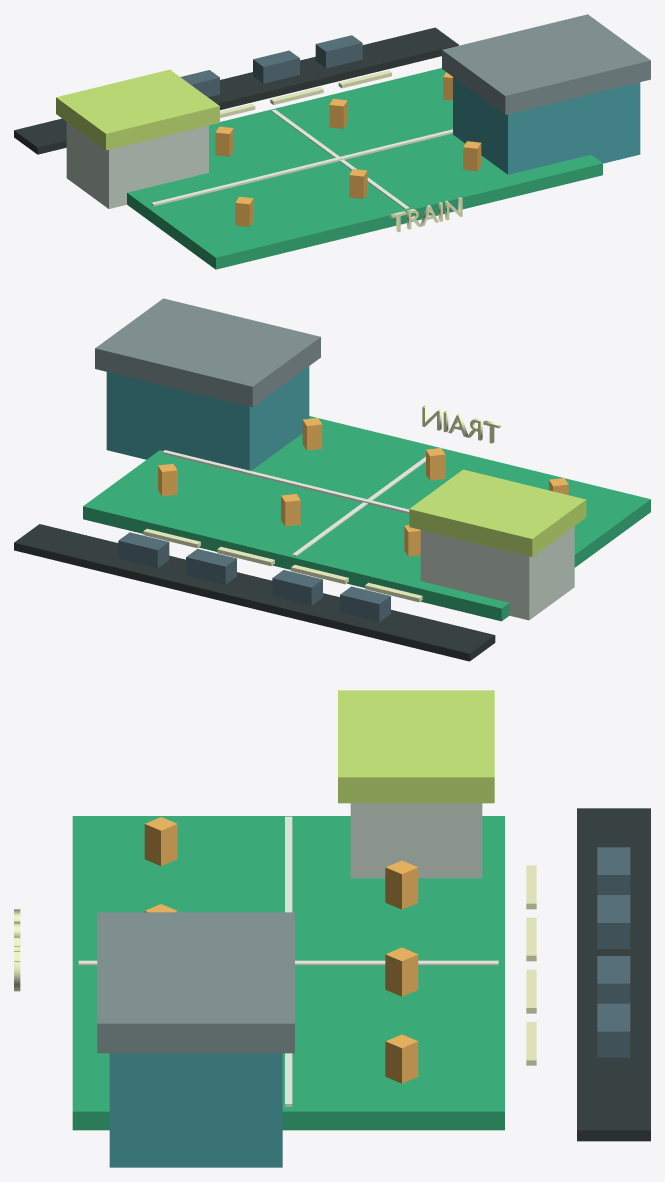
The model's file is training-base-lowpoly.glb.
3 renders of one model, top to bottom at view 1: azimuth 30°, elevation 25°; view 2: azimuth 150°, elevation 25°; view 3: azimuth 270°, elevation 25°, orthographic. The views are drawn at different scales.
Visible parts, largest first — view 1: training_main_pitch, training_gym_roof, training_gym_base, training_recovery_roof, training_recovery_center, training_parking_strip, training_pitch_line_y, training_car_3, training_car_2, training_sign, training_pitch_line_x, training_car_1 (+7 smaller); view 2: training_main_pitch, training_gym_roof, training_gym_base, training_parking_strip, training_recovery_roof, training_recovery_center, training_car_3, training_car_0, training_car_2, training_car_1, training_pitch_line_y, training_sign (+5 smaller); view 3: training_main_pitch, training_gym_roof, training_gym_base, training_parking_strip, training_recovery_roof, training_recovery_center, training_car_3, training_car_1, training_car_0, training_car_2, training_cone_3, training_cone_5 (+4 smaller).
Part boxes in pixels (x1,y1,x2,y2): training_main_pitch: (127, 68, 602, 269); training_gym_roof: (442, 14, 650, 114); training_gym_base: (453, 77, 640, 174); training_recovery_roof: (56, 69, 219, 150); training_recovery_center: (66, 122, 208, 208); training_parking_strip: (14, 27, 458, 154); training_pitch_line_y: (151, 129, 452, 206); training_car_3: (315, 35, 362, 68); training_car_2: (253, 50, 299, 83); training_sign: (390, 197, 462, 232); training_pitch_line_x: (271, 109, 409, 209); training_car_1: (180, 70, 219, 96); training_main_pitch: (83, 416, 650, 621); training_gym_roof: (95, 298, 320, 407); training_gym_base: (106, 366, 309, 470); training_parking_strip: (14, 524, 495, 661); training_recovery_roof: (409, 469, 586, 556); training_recovery_center: (420, 526, 574, 620); training_car_3: (118, 532, 169, 568); training_car_0: (340, 586, 390, 622); training_car_2: (186, 549, 236, 584); training_car_1: (272, 570, 322, 605); training_pitch_line_y: (162, 450, 409, 513); training_sign: (422, 405, 500, 443); training_main_pitch: (72, 816, 504, 1130); training_gym_roof: (97, 912, 294, 1053); training_gym_base: (109, 1053, 282, 1167); training_parking_strip: (577, 808, 650, 1141); training_recovery_roof: (338, 690, 494, 803); training_recovery_center: (350, 803, 482, 878); training_car_3: (597, 1003, 630, 1057); training_car_1: (597, 895, 630, 948); training_car_0: (597, 847, 630, 894); training_car_2: (597, 956, 630, 1003); training_cone_3: (385, 947, 418, 996); training_cone_5: (385, 1034, 418, 1083).
Bounding box in the file's own units: 4.11 × 0.8 × 3.1.
